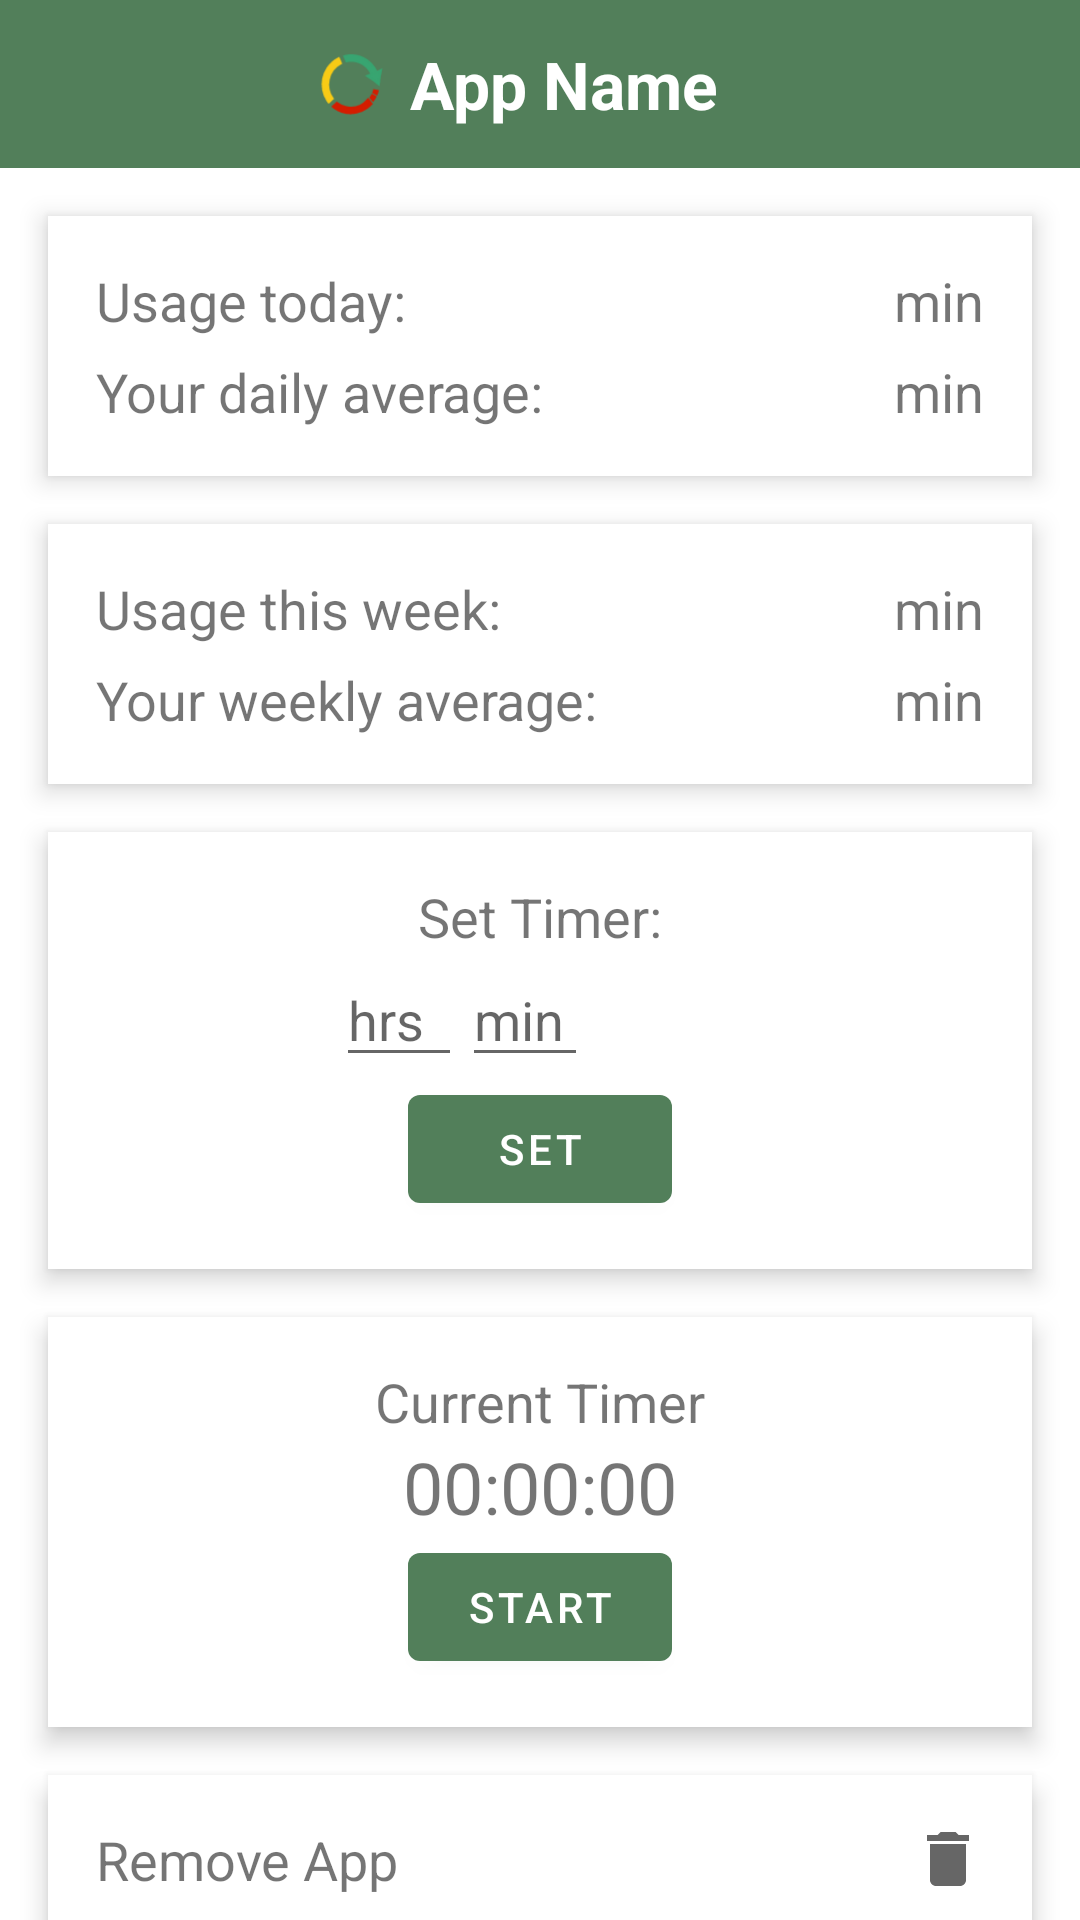

Icons on this 1080w x 1920h Android screen, each with its box as (x1, y1, x2, y2):
Delete Application: (927, 1832, 969, 1886)
